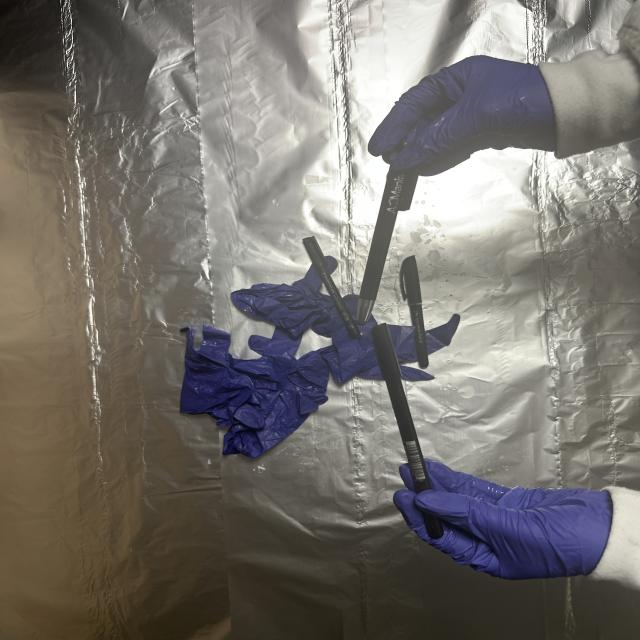gloves_contaminated: (394, 459, 612, 580), (368, 56, 556, 175)
